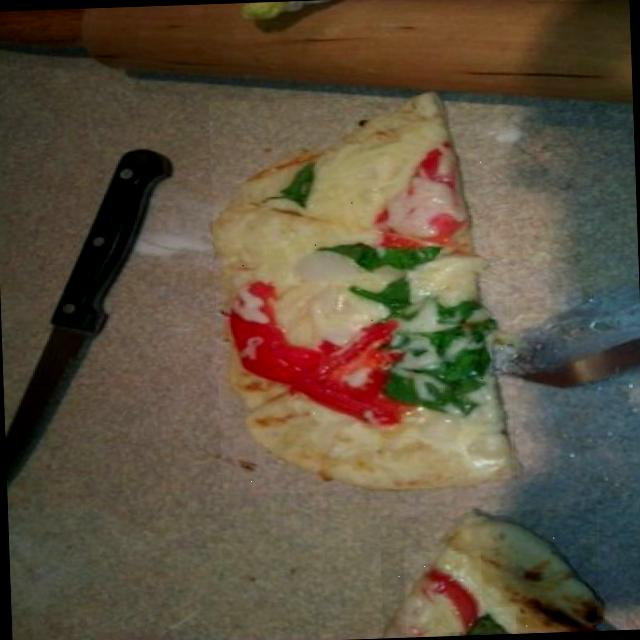basil: (379, 280, 491, 434), (320, 224, 441, 322), (461, 606, 515, 636)
pizza: (212, 94, 512, 489), (382, 512, 597, 638)
tomato: (225, 282, 396, 429), (403, 550, 482, 634)
